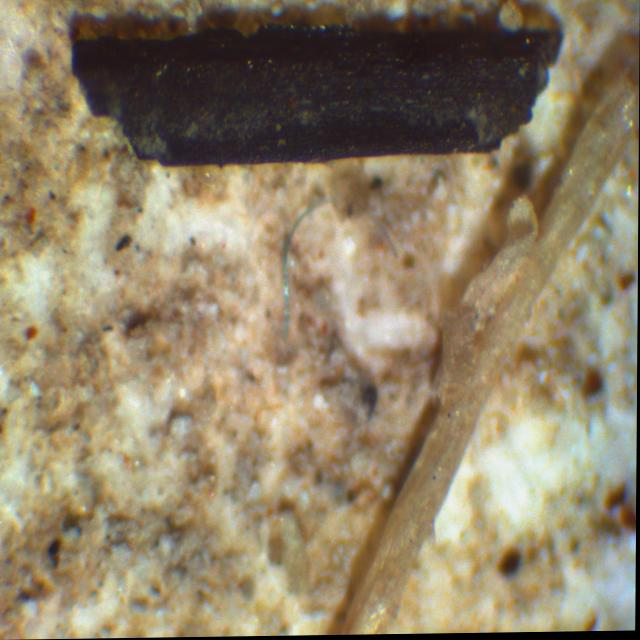microplastic: (256, 188, 337, 339)
